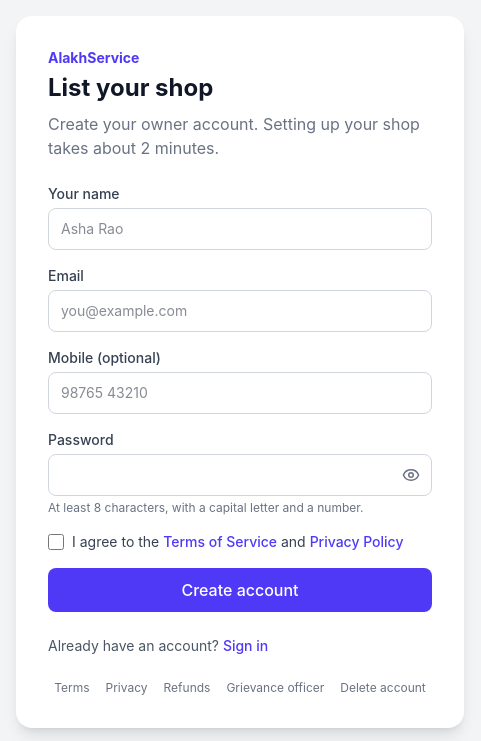
RegisterPage › explains a weak password next to the field
Check: the text "At least 8 characters, with a capital letter and a number." is shown, box x1=48 y1=500 x2=364 y2=515
Type "short" into the password field labelled "Password" at (240, 475), box x1=48 y1=454 x2=432 y2=496
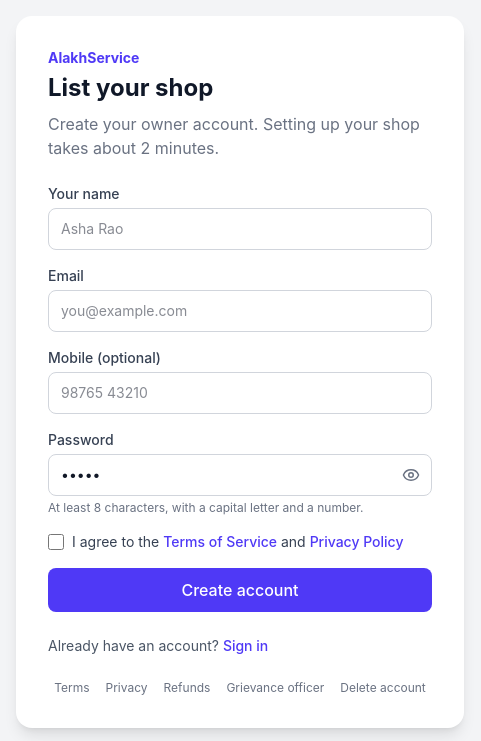
Click the button "Create account" at (240, 590), box x1=48 y1=568 x2=432 y2=612
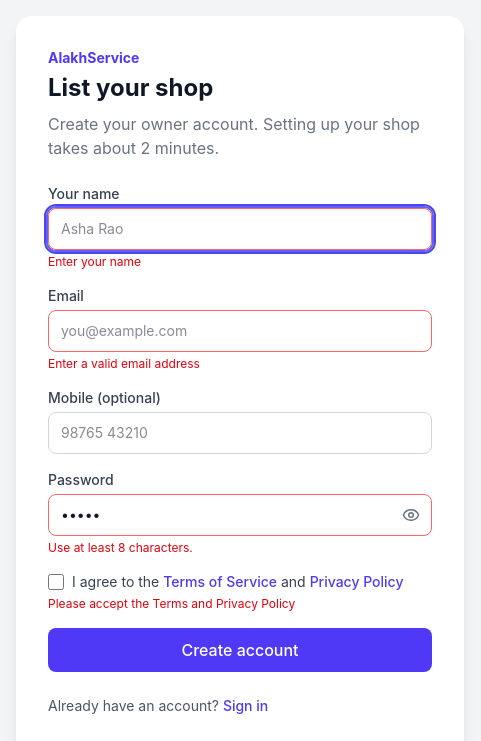
Check: the text "Use at least 8 characters." is shown, box x1=48 y1=540 x2=193 y2=555
